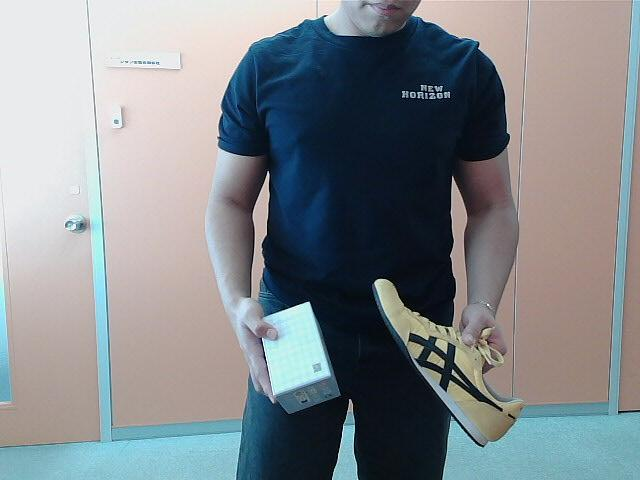Blind_box: (254, 301, 343, 416)
Shoes: (372, 278, 524, 448)
